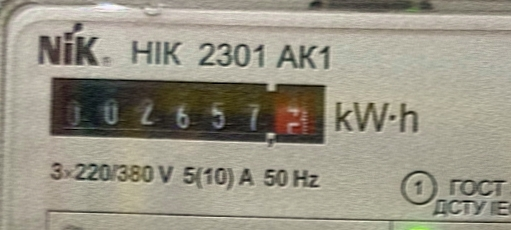0: (66, 95, 83, 124), (105, 93, 120, 123)
2: (140, 94, 157, 123)
4: (287, 89, 302, 114)
5: (212, 97, 228, 127), (287, 118, 303, 132)
6: (177, 97, 191, 127)
7: (248, 98, 263, 130)
screen: (43, 64, 338, 152)
